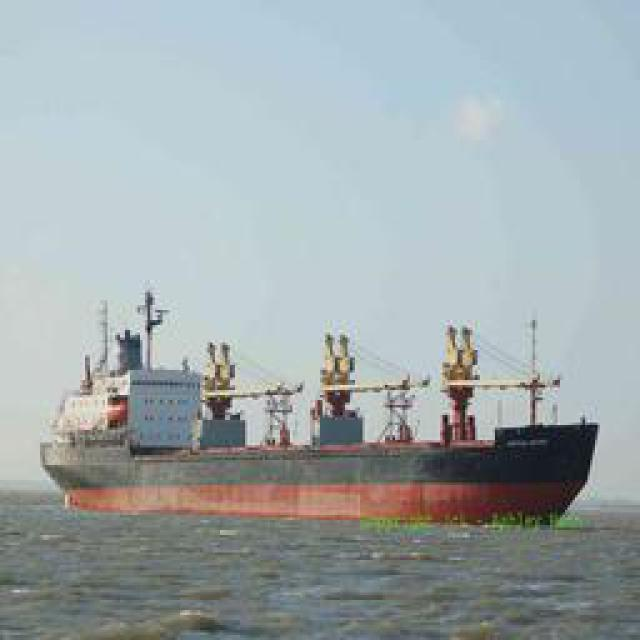Ship: (22, 319, 605, 532)
